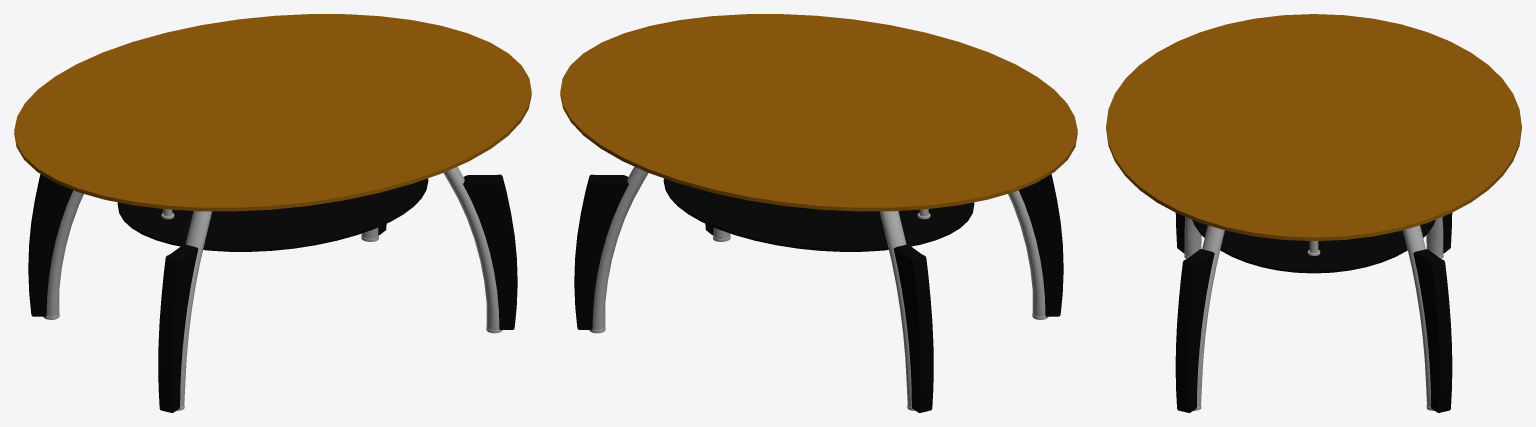
File: table.fbx
3 renders of one model, left to right at view 1: azimuth 30°, elevation 25°; view 2: azimuth 150°, elevation 25°; view 3: azimuth 270°, elevation 25°, orthographic. The views are drawn at different scales.
Parts seen in each view (by area): view 1: Table; view 2: Table; view 3: Table.
Part boxes in pixels (<box>): Table: <box>14,14,531,412</box>; Table: <box>560,14,1077,412</box>; Table: <box>1106,14,1521,412</box>.
Bounding box in the file's own units: 21.16 × 9.1 × 16.62.
